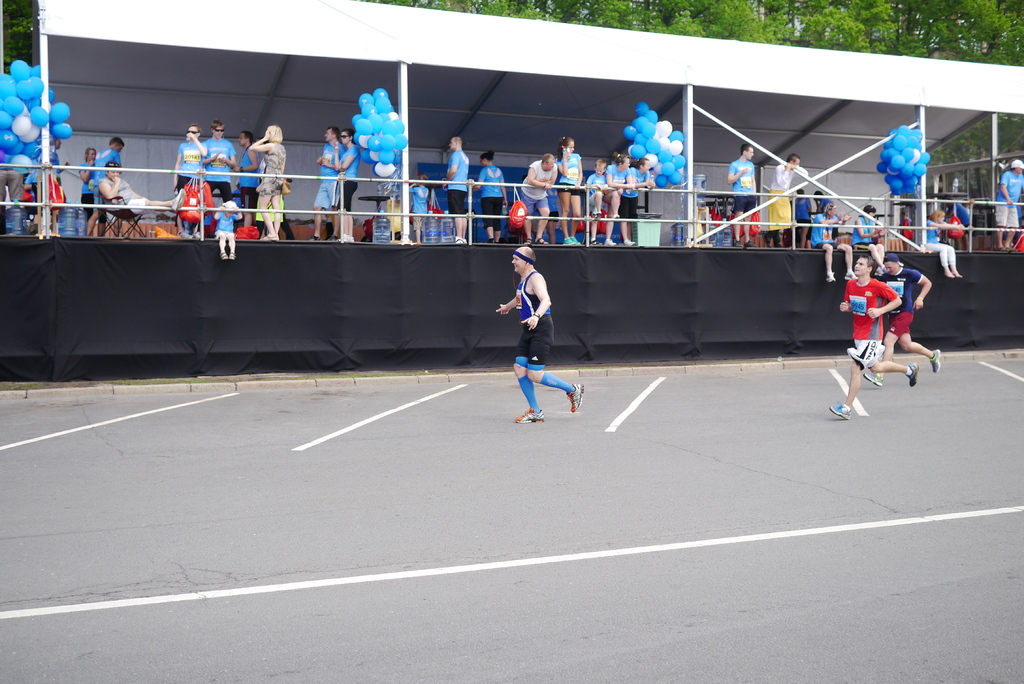Person: (0, 118, 1023, 423), (828, 255, 918, 420)
